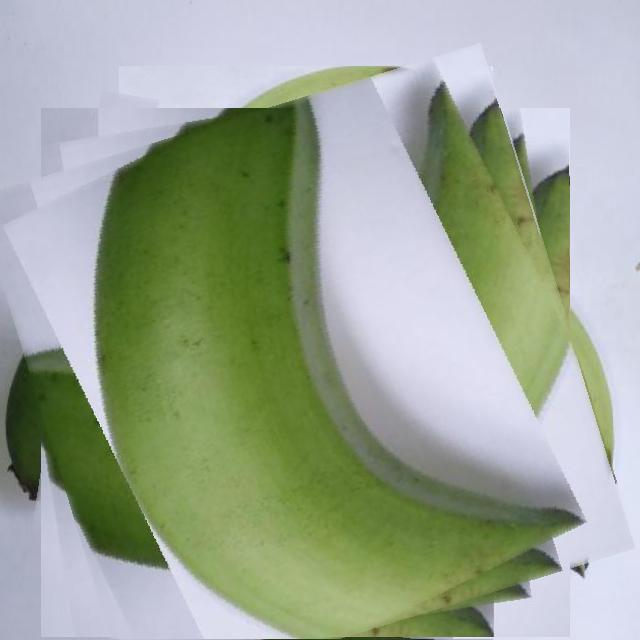Verde: (8, 75, 604, 640)
